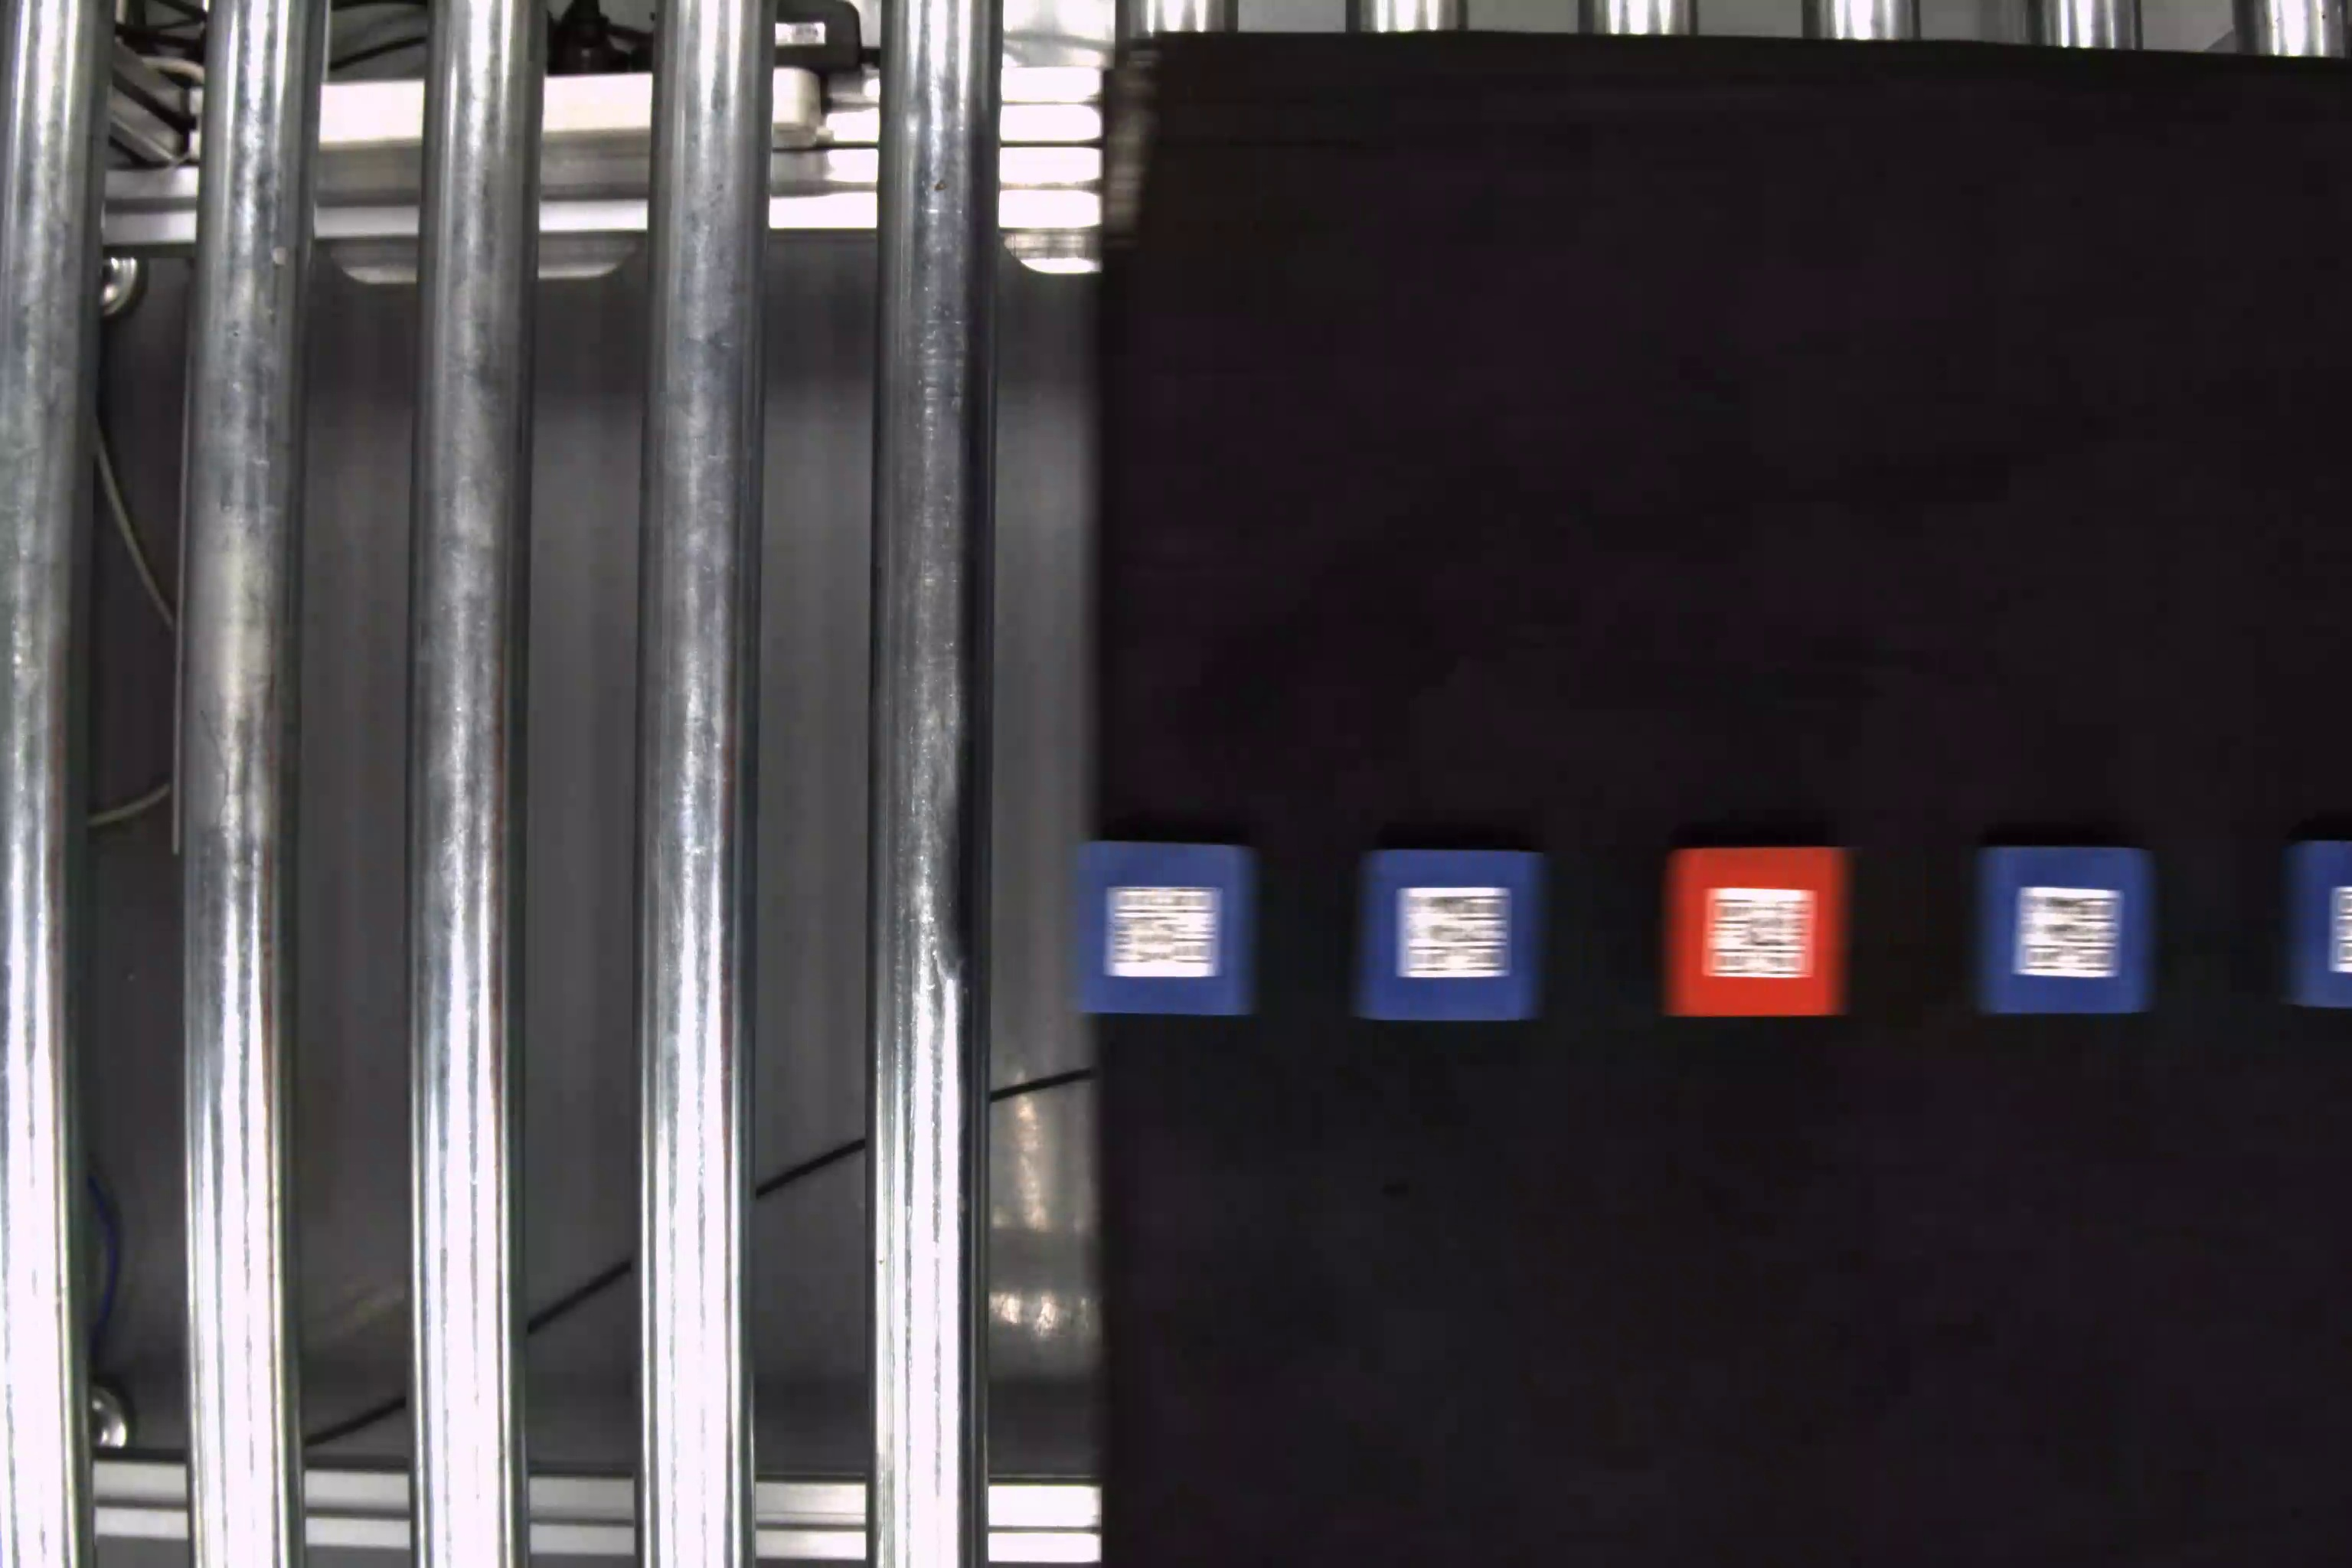wood: (1963, 836, 2156, 1018), (1351, 849, 1545, 1029), (1659, 840, 1857, 1015), (1074, 836, 1265, 1015), (2278, 836, 2352, 1004)
